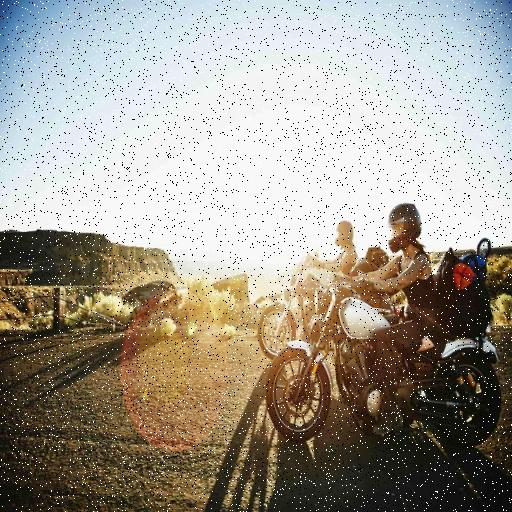Helmet: (388, 204, 421, 252), (336, 220, 353, 246)
Motor: (265, 285, 512, 458)
